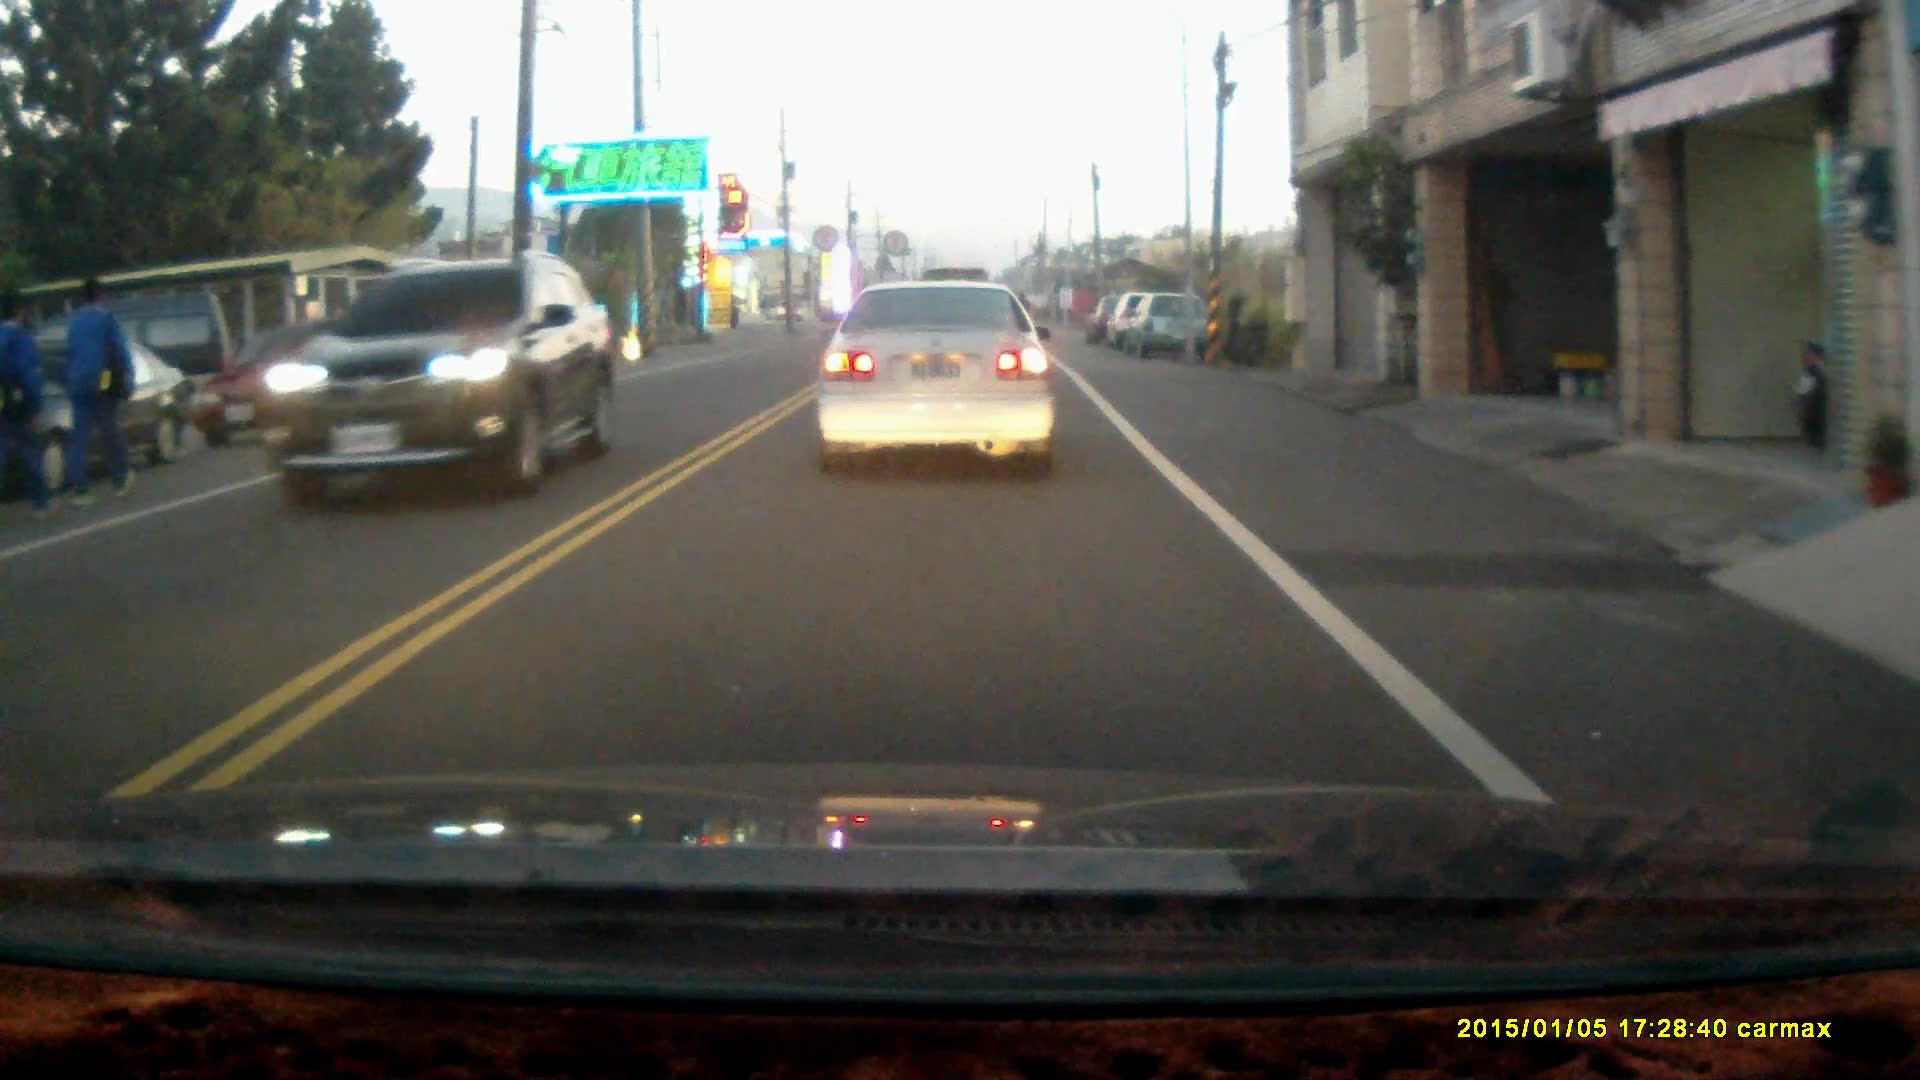pedestrian: (60, 273, 137, 507), (0, 284, 55, 523)
vehicle: (262, 256, 622, 500), (812, 280, 1062, 478), (1, 327, 202, 502), (197, 314, 394, 454), (1122, 294, 1213, 363)
